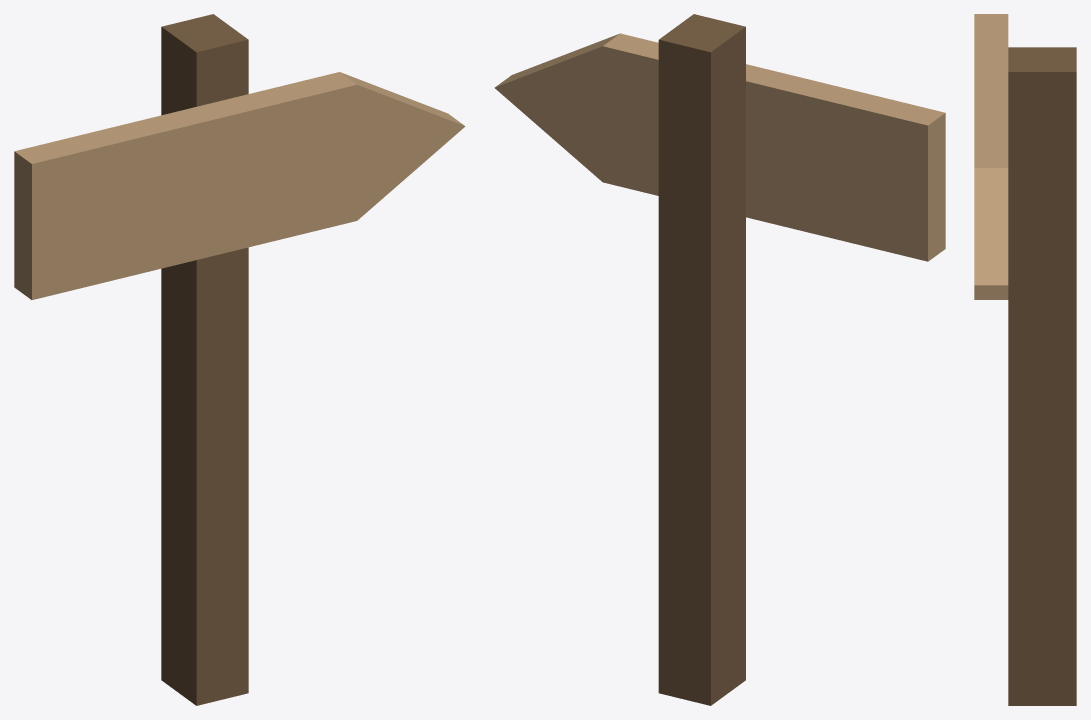
Rendered from TW_SIGN_ARROW_A_LOD0.glb.
3 renders of one model, left to right at view 1: azimuth 30°, elevation 25°; view 2: azimuth 150°, elevation 25°; view 3: azimuth 270°, elevation 25°, orthographic. The views are drawn at different scales.
Parts seen in each view (by area): view 1: TW_SIGN_ARROW_A_LOD0; view 2: TW_SIGN_ARROW_A_LOD0; view 3: TW_SIGN_ARROW_A_LOD0.
Boxes of the visible parts, bbox=[...] form: TW_SIGN_ARROW_A_LOD0: bbox=[14, 14, 465, 705]; TW_SIGN_ARROW_A_LOD0: bbox=[494, 14, 945, 705]; TW_SIGN_ARROW_A_LOD0: bbox=[974, 14, 1076, 705].
Size of the model in its own units: 1 by 1.44 by 0.21.
1 material, 1 textured.
